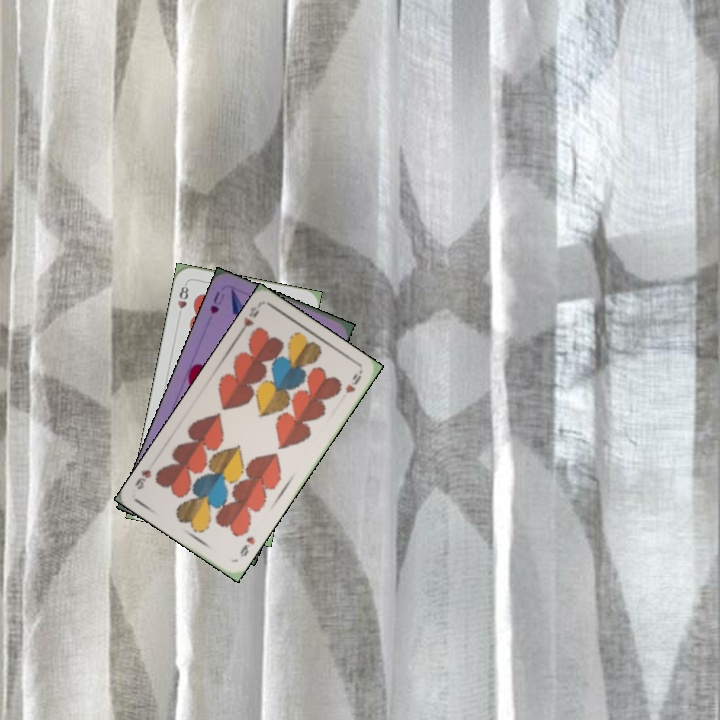H8: (174, 279, 191, 320)
H9: (235, 303, 262, 337), (236, 532, 258, 559)
HU: (206, 287, 227, 317)
